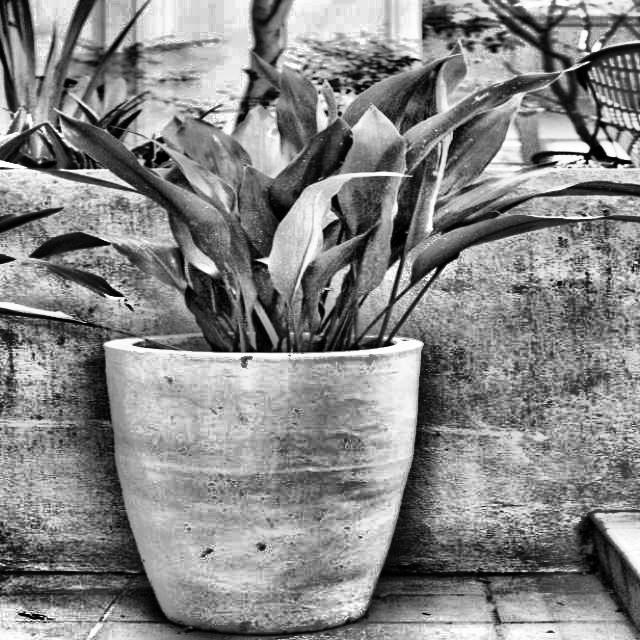plants: (52, 93, 518, 339)
